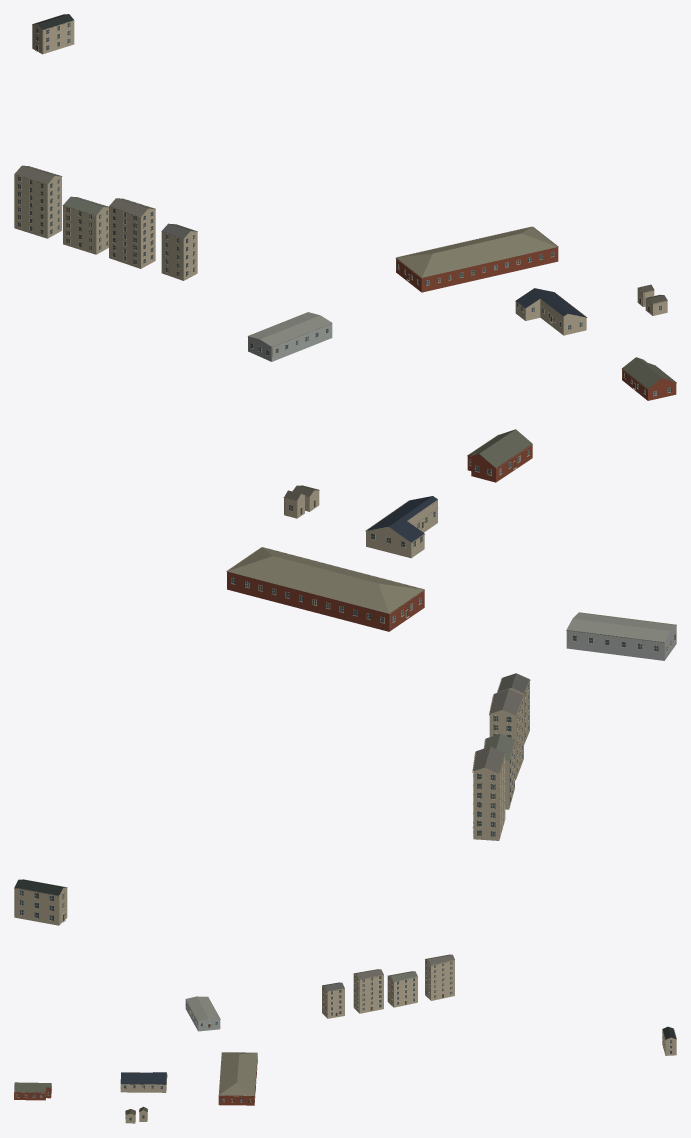
The picture shows the model from 3 angles, top to bottom: view 1: azimuth 30°, elevation 25°; view 2: azimuth 150°, elevation 25°; view 3: azimuth 270°, elevation 25°; orthographic projection. The views are drawn at different scales.
Visible parts, largest first — view 1: 0_13_599466606_0, 0_13_608383939_1, 0_13_638018820_2; view 2: 0_13_599466606_0, 0_13_608383939_1, 0_13_638018820_2; view 3: 0_13_599466606_0, 0_13_608383939_1, 0_13_638018820_2.
Boxes of the visible parts, bbox=[...] form: 0_13_599466606_0: bbox=[14, 14, 676, 400]; 0_13_608383939_1: bbox=[14, 20, 667, 335]; 0_13_638018820_2: bbox=[248, 323, 332, 361]; 0_13_599466606_0: bbox=[14, 429, 676, 922]; 0_13_608383939_1: bbox=[14, 490, 529, 925]; 0_13_638018820_2: bbox=[566, 625, 676, 660]; 0_13_599466606_0: bbox=[14, 954, 676, 1121]; 0_13_608383939_1: bbox=[120, 959, 676, 1123]; 0_13_638018820_2: bbox=[185, 1000, 220, 1031].
Bounding box in the file's own units: 170 × 25.32 × 363.
